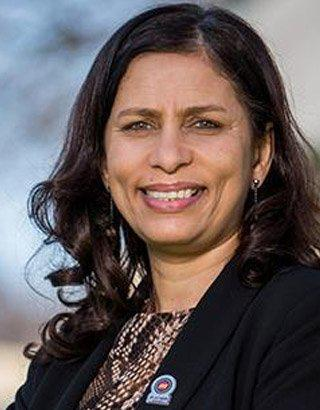Sober: (109, 62, 250, 234)
